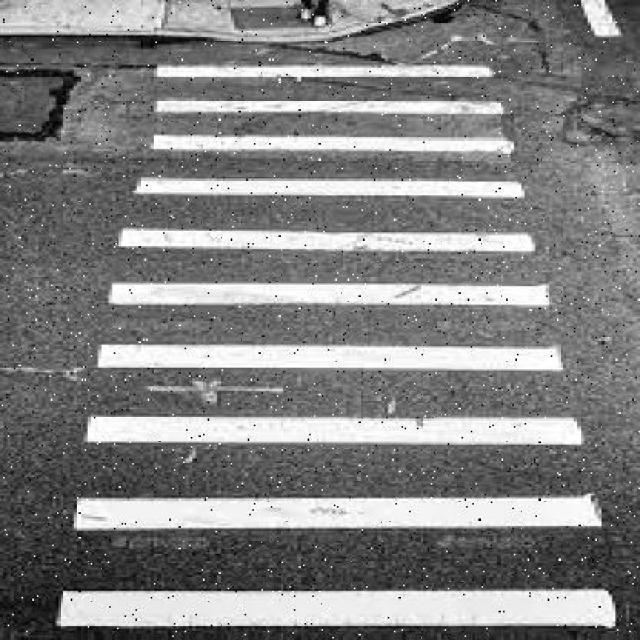crosswalk: (56, 63, 624, 637)
